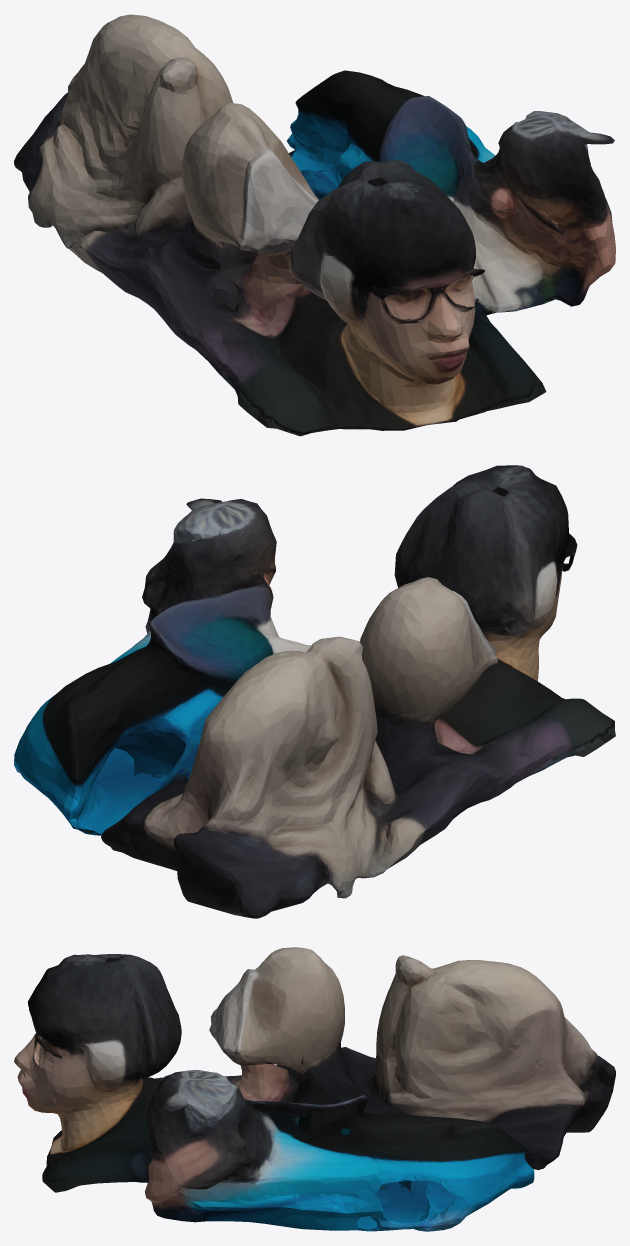
3 renders of one model, top to bottom at view 1: azimuth 30°, elevation 25°; view 2: azimuth 150°, elevation 25°; view 3: azimuth 270°, elevation 25°, orthographic. The views are drawn at different scales.
Visible parts, largest first — view 1: world; view 2: world; view 3: world.
Part boxes in pixels (<box>): world: <box>14,14,615,436</box>; world: <box>14,465,615,918</box>; world: <box>14,947,615,1231</box>.
Bounding box in the file's own units: 0.6075 × 0.3331 × 0.9629.
Materials: 1 (1 with a texture image).
